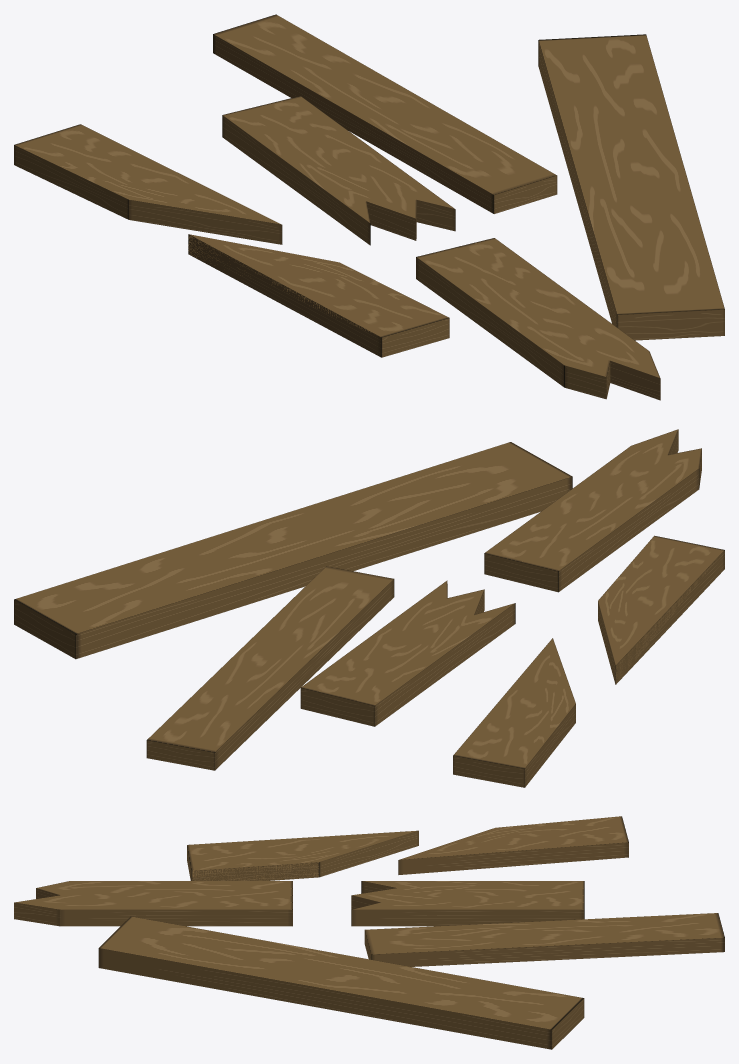
The model's file is hangbro brokenish junglestylies.fbx.
The picture shows the model from 3 angles, top to bottom: view 1: azimuth 30°, elevation 25°; view 2: azimuth 150°, elevation 25°; view 3: azimuth 270°, elevation 25°; orthographic projection. The views are drawn at different scales.
Parts seen in each view (by area): view 1: plank 1, plank 2, plank 4 split, plank 3 split, plank 5 cut pt2, plank5 cut; view 2: plank 1, plank 2, plank 4 split, plank 3 split, plank5 cut, plank 5 cut pt2; view 3: plank 1, plank 2, plank 4 split, plank 3 split, plank 5 cut pt2, plank5 cut.
Part boxes in pixels (x1=…): plank 1: x1=538, y1=34, x2=724, y2=340; plank 2: x1=213, y1=14, x2=557, y2=213; plank 4 split: x1=416, y1=238, x2=660, y2=400; plank 3 split: x1=222, y1=96, x2=455, y2=245; plank 5 cut pt2: x1=14, y1=124, x2=282, y2=244; plank5 cut: x1=188, y1=234, x2=449, y2=357; plank 1: x1=14, y1=442, x2=572, y2=659; plank 2: x1=146, y1=566, x2=394, y2=770; plank 4 split: x1=484, y1=429, x2=701, y2=592; plank 3 split: x1=300, y1=580, x2=515, y2=726; plank5 cut: x1=598, y1=535, x2=724, y2=684; plank 5 cut pt2: x1=453, y1=638, x2=575, y2=787; plank 1: x1=98, y1=916, x2=584, y2=1049; plank 2: x1=364, y1=913, x2=724, y2=966; plank 4 split: x1=14, y1=881, x2=292, y2=926; plank 3 split: x1=351, y1=881, x2=584, y2=926; plank 5 cut pt2: x1=398, y1=816, x2=628, y2=874; plank5 cut: x1=187, y1=830, x2=418, y2=880.
Bounding box in the file's own units: 2192 × 101 × 3065.
2 materials, 2 textured.
